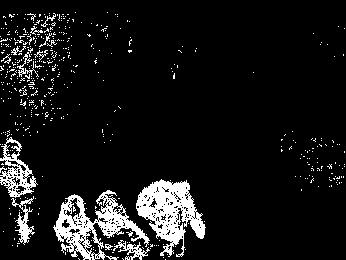person: (143, 178, 207, 258), (1, 136, 45, 249)
